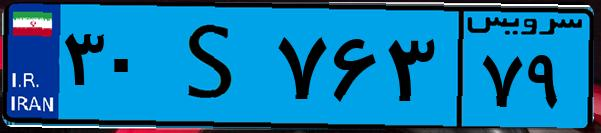0: (110, 28, 158, 98)
3: (385, 28, 445, 110), (57, 26, 110, 100)
6: (330, 28, 385, 110)
7: (270, 28, 330, 110), (475, 38, 525, 113)
9: (525, 38, 570, 115)
S: (158, 12, 270, 120)
